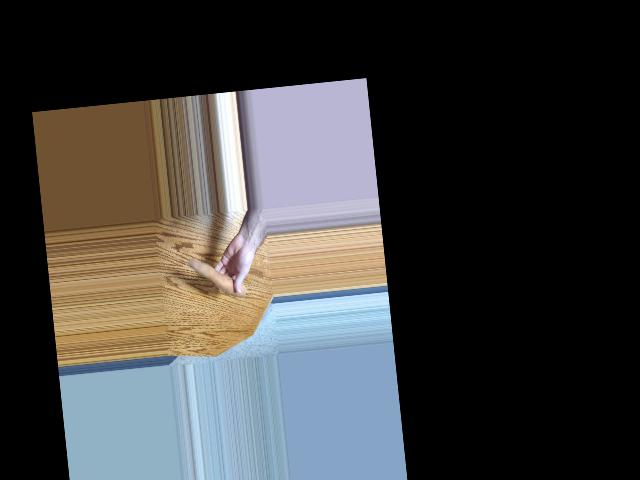sweet_potato: (187, 251, 246, 299)
